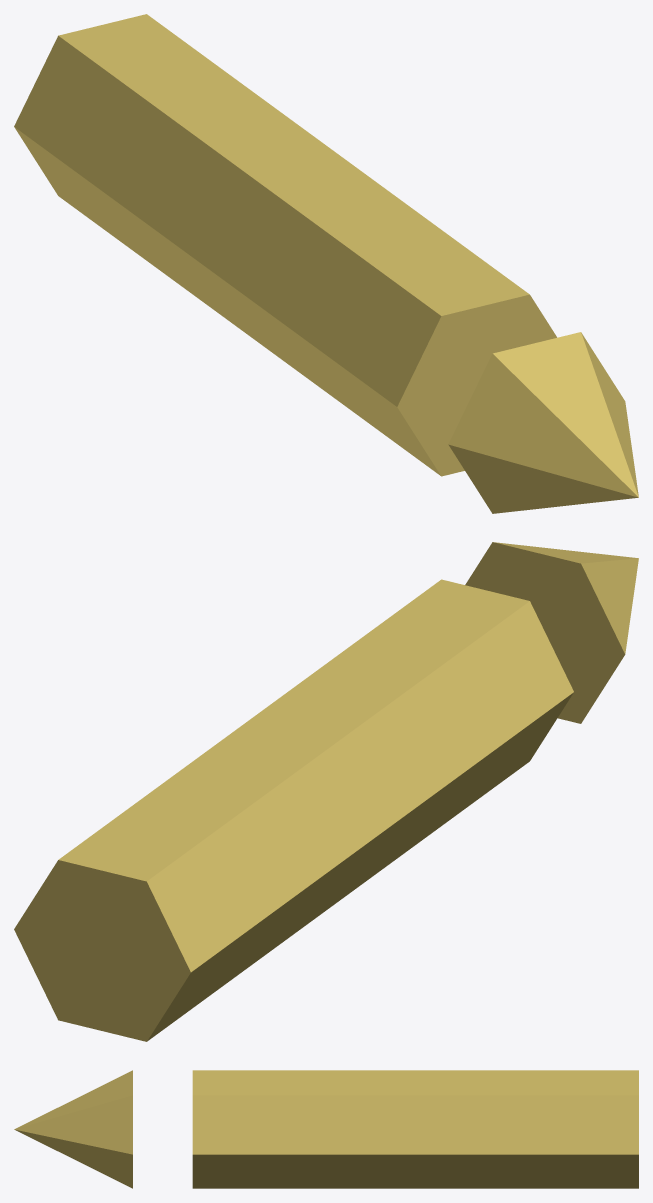
The picture shows the model from 3 angles, top to bottom: view 1: azimuth 30°, elevation 25°; view 2: azimuth 150°, elevation 25°; view 3: azimuth 270°, elevation 25°; orthographic projection. The views are drawn at different scales.
Parts seen in each view (by area): view 1: part0, part1; view 2: part0, part1; view 3: part0, part1.
Boxes of the visible parts, x1,y1,x2,y2 form: part0: (14, 14, 556, 476); part1: (448, 332, 638, 513); part0: (14, 579, 573, 1041); part1: (465, 542, 638, 723); part0: (192, 1070, 638, 1188); part1: (14, 1070, 132, 1188).
Bounding box in the file's own units: 0.8 × 0.6928 × 4.2.
